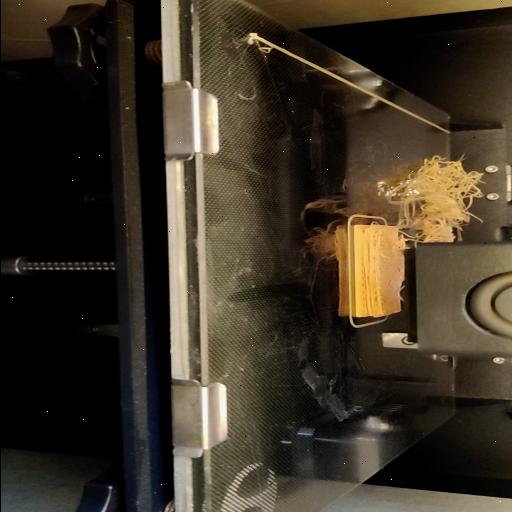spaghetti: (388, 154, 486, 241)
